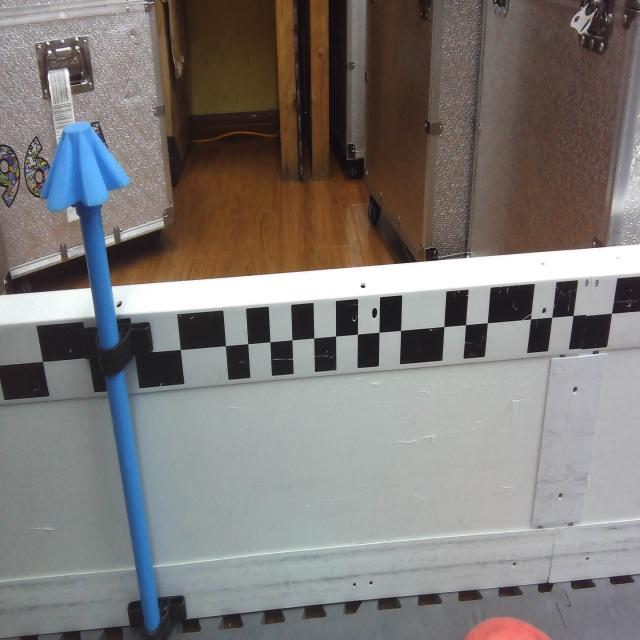zblue-Stake-Head: (41, 122, 130, 212)
